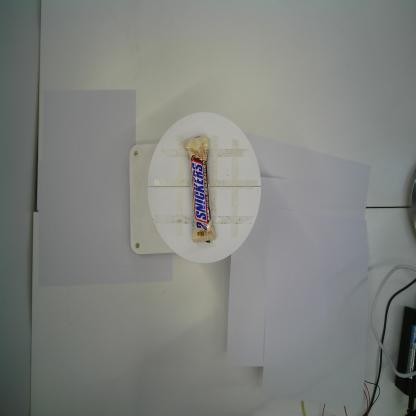Chocolate: (182, 132, 218, 246)
